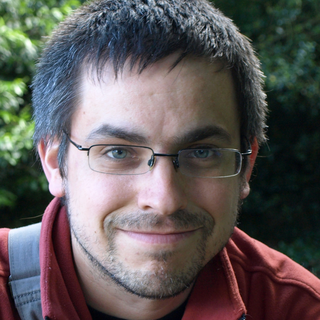eye: (94, 143, 144, 167), (178, 142, 224, 166)
